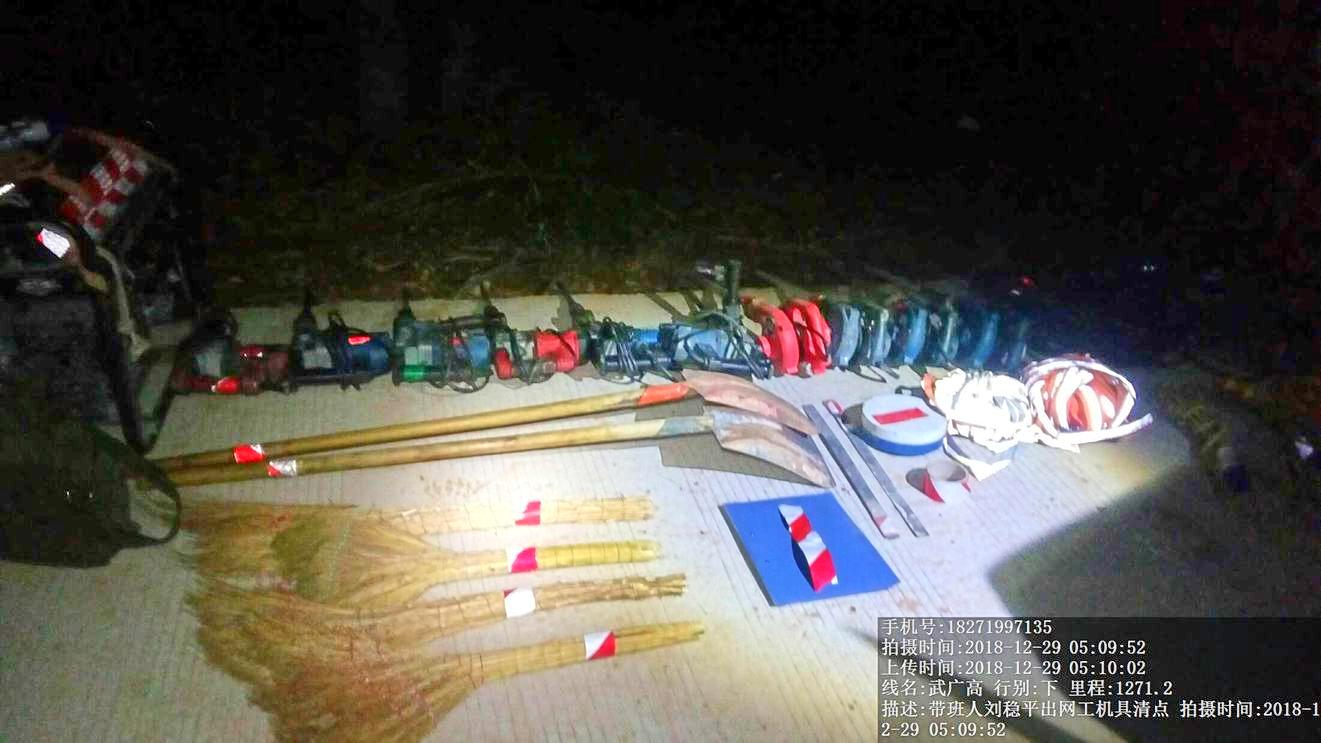DZ: (375, 298, 493, 377), (491, 283, 582, 368), (293, 295, 372, 374)
SB: (263, 629, 724, 737), (273, 516, 660, 584)
TQ: (170, 371, 841, 489)
